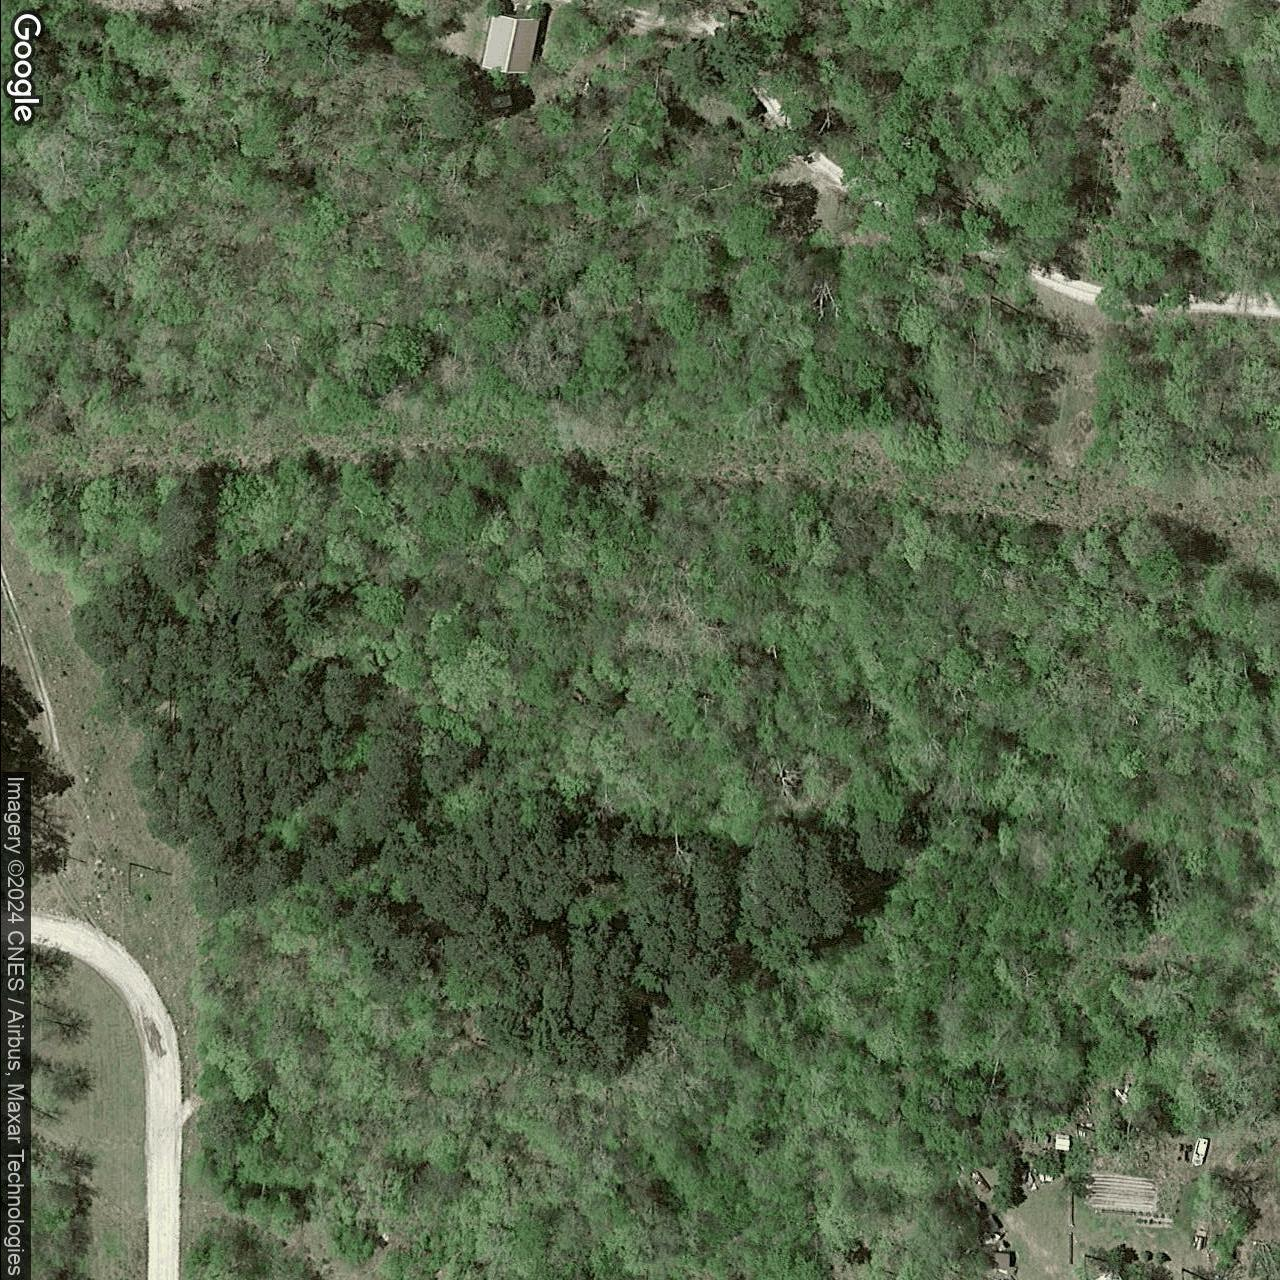Garage: (478, 13, 539, 74)
